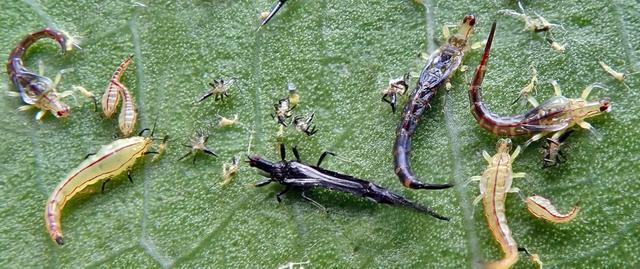Phlaeothripidae: (468, 14, 616, 169), (242, 145, 454, 225), (41, 119, 170, 247), (392, 12, 475, 194), (4, 24, 81, 124)
